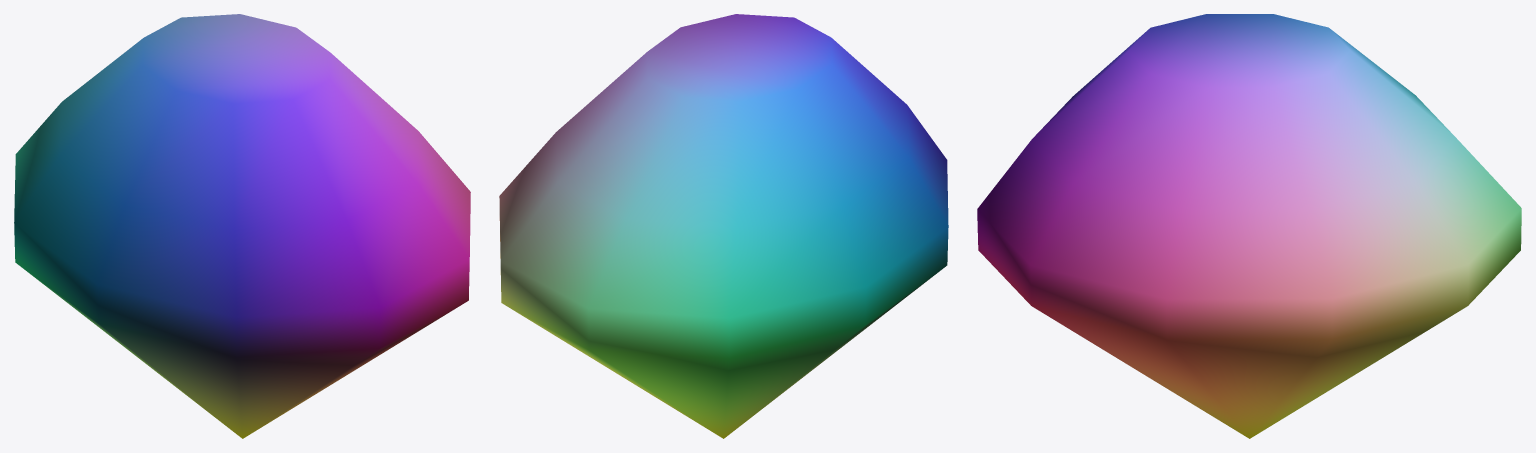
The model's file is SM_Pickup_Gem_Ruby_3.fbx.
3 views of the same model, side by side, from view 1: azimuth 30°, elevation 25°; view 2: azimuth 150°, elevation 25°; view 3: azimuth 270°, elevation 25° (orthographic).
Parts seen in each view (by area): view 1: SM_Pickup_Gem_Ruby_3; view 2: SM_Pickup_Gem_Ruby_3; view 3: SM_Pickup_Gem_Ruby_3.
Boxes of the visible parts, x1=… form: SM_Pickup_Gem_Ruby_3: x1=14, y1=14, x2=470, y2=438; SM_Pickup_Gem_Ruby_3: x1=499, y1=14, x2=948, y2=438; SM_Pickup_Gem_Ruby_3: x1=977, y1=14, x2=1521, y2=438.
Size of the model in its own units: 0.1854 by 0.1837 by 0.2366.
